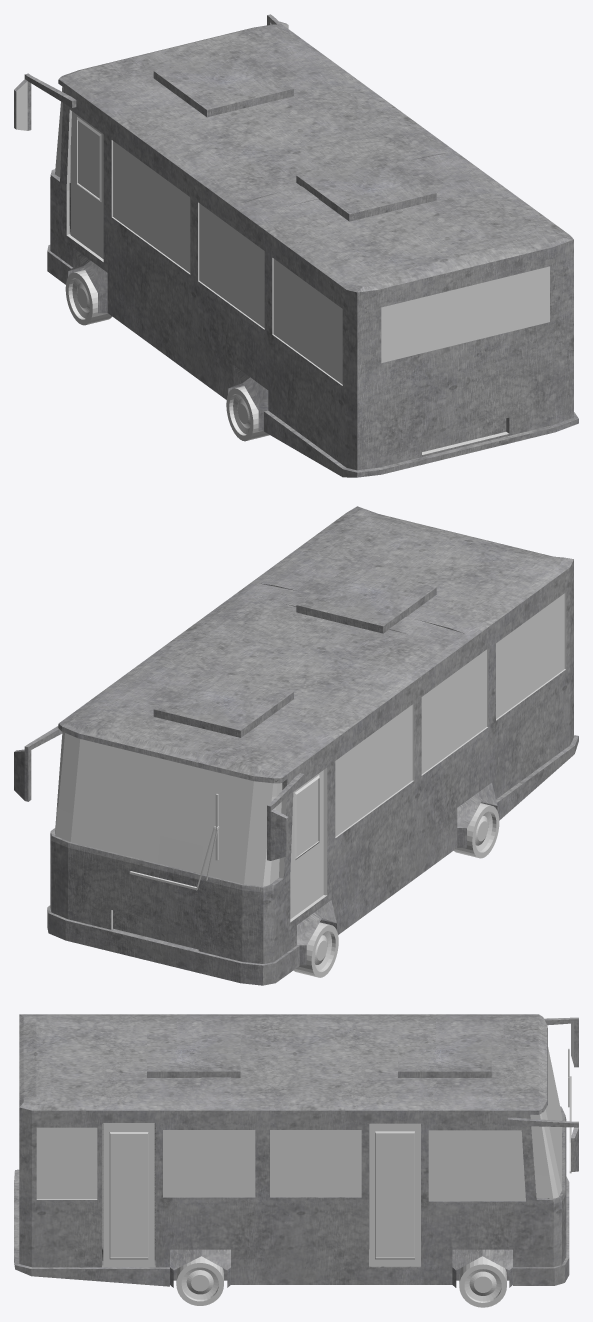
File: fuckingbus.fbx
3 renders of one model, top to bottom at view 1: azimuth 30°, elevation 25°; view 2: azimuth 150°, elevation 25°; view 3: azimuth 270°, elevation 25°, orthographic. The views are drawn at different scales.
Visible parts, largest first — view 1: Cube.038, Cube.006, Cube.002, Cube.030, Cube.012, Cube.013, Cube.032; view 2: Cube.038, Cube.001, Cube.006, Cube.030, Cube.012, Cube.013, Cube.032; view 3: Cube.038, Cube.007, Cube.027, Cube.025, Cube.024, Cube.026, Cube.001, Cube.014, Cube.010.
Boxes of the visible parts, box(x1,y1,x2,y2) form: Cube.038: box(14, 14, 578, 477); Cube.006: box(113, 141, 342, 384); Cube.002: box(381, 266, 549, 362); Cube.030: box(70, 111, 103, 258); Cube.012: box(65, 270, 111, 325); Cube.013: box(226, 386, 269, 441); Cube.032: box(78, 121, 99, 198); Cube.038: box(14, 506, 578, 985); Cube.001: box(55, 732, 282, 886); Cube.006: box(335, 593, 564, 836); Cube.030: box(290, 770, 323, 918); Cube.012: box(293, 922, 338, 977); Cube.013: box(454, 803, 499, 858); Cube.032: box(296, 779, 318, 856); Cube.038: box(14, 1014, 578, 1287); Cube.007: box(36, 1127, 525, 1200); Cube.027: box(375, 1133, 414, 1257); Cube.025: box(110, 1134, 147, 1257); Cube.024: box(103, 1123, 154, 1267); Cube.026: box(369, 1123, 420, 1266); Cube.001: box(530, 1047, 561, 1198); Cube.014: box(459, 1256, 506, 1307); Cube.010: box(176, 1256, 223, 1305).
Bounding box in the file's own units: 364 × 293 × 744.
